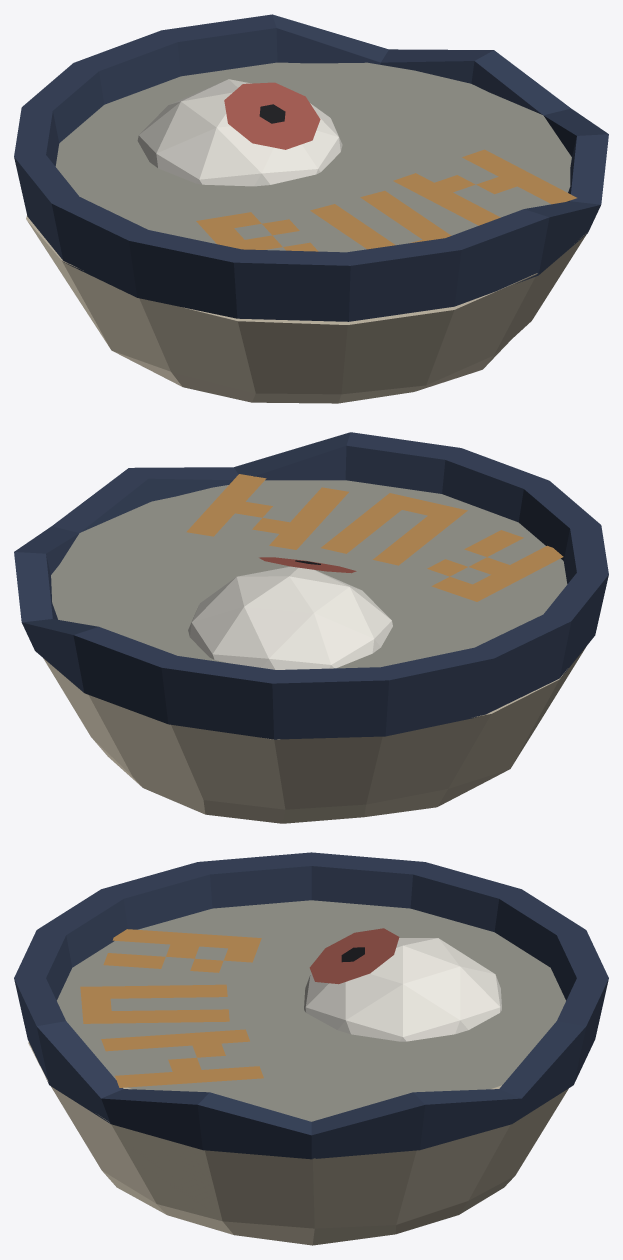
Rendered from soup_bowl.glb.
The picture shows the model from 3 angles, top to bottom: view 1: azimuth 30°, elevation 25°; view 2: azimuth 150°, elevation 25°; view 3: azimuth 270°, elevation 25°; orthographic projection.
Visible parts, largest first — view 1: Prop; view 2: Prop; view 3: Prop.
Boxes of the visible parts, <box> form: Prop: <box>14,14,608,403</box>; Prop: <box>14,432,608,823</box>; Prop: <box>14,852,608,1245</box>.
Size of the model in its own units: 0.26 by 0.1 by 0.26.
